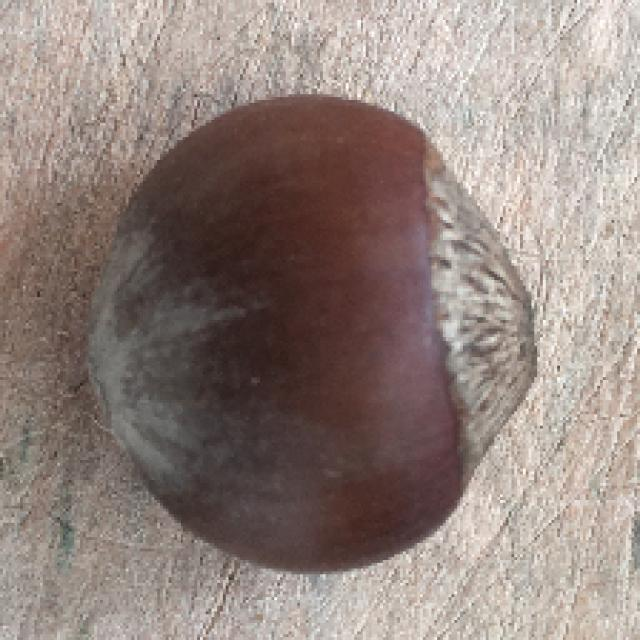damagedHazelnut: (84, 70, 536, 588)
